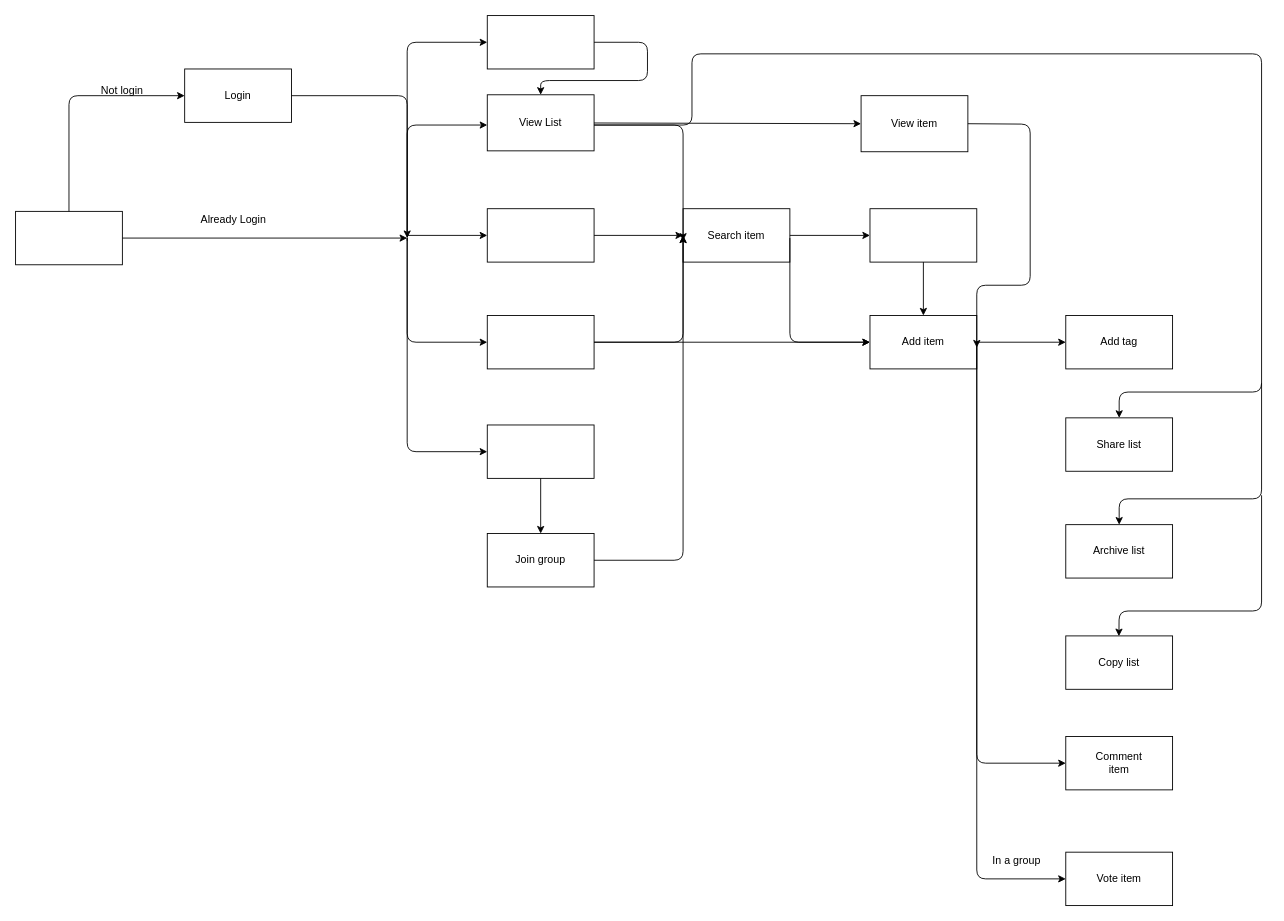
Some shapes in this 1284 by 921 pixel diagram are drawn without their labels. Each missing label, with the centre of its shape:
"Browser" goes at (68,237).
"Create group" goes at (540,342).
"Create List" goes at (540,235).
"Filter item" goes at (923,235).
"Search group" goes at (540,451).
"View group" goes at (540,42).
